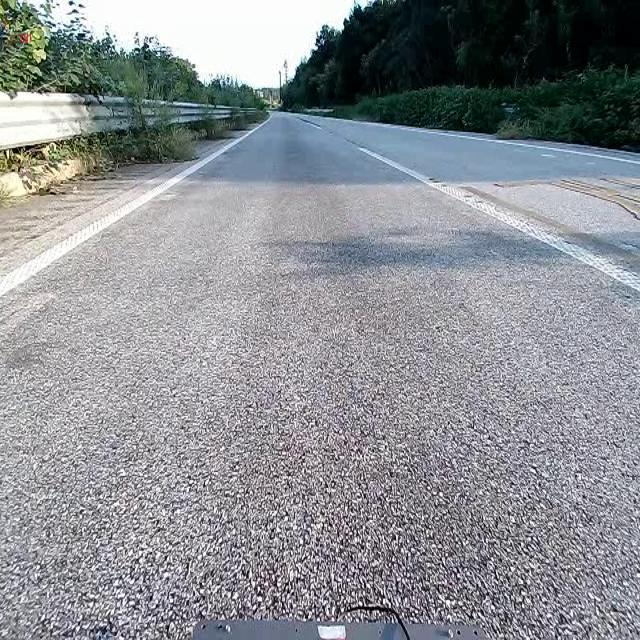Lane: (2, 118, 271, 301), (0, 117, 270, 296), (352, 137, 640, 288), (352, 142, 639, 292)
